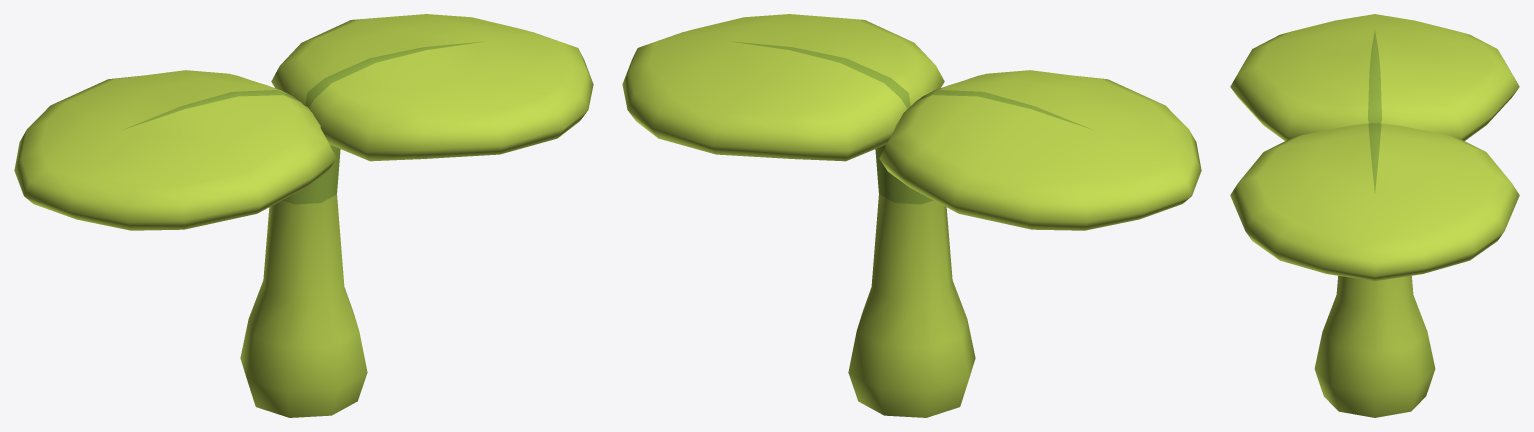
Rendered from mesh_platformPlant.fbx.
3 renders of one model, left to right at view 1: azimuth 30°, elevation 25°; view 2: azimuth 150°, elevation 25°; view 3: azimuth 270°, elevation 25°, orthographic. The views are drawn at different scales.
Parts seen in each view (by area): view 1: mesh_leaf_R, mesh_leaf_L, mesh_stem; view 2: mesh_leaf_R, mesh_leaf_L, mesh_stem; view 3: mesh_leaf_L, mesh_leaf_R, mesh_stem.
Boxes of the visible parts, bbox=[...] form: mesh_leaf_R: bbox=[14, 70, 336, 230]; mesh_leaf_L: bbox=[271, 14, 593, 161]; mesh_stem: bbox=[240, 106, 367, 417]; mesh_leaf_R: bbox=[879, 70, 1201, 230]; mesh_leaf_L: bbox=[622, 14, 944, 161]; mesh_stem: bbox=[848, 106, 975, 417]; mesh_leaf_L: bbox=[1230, 123, 1519, 281]; mesh_leaf_R: bbox=[1230, 14, 1519, 140]; mesh_stem: bbox=[1314, 275, 1435, 417].
Bounding box in the file's own units: 3.92 × 2.13 × 1.91.
Materials: 1 (1 with a texture image).
